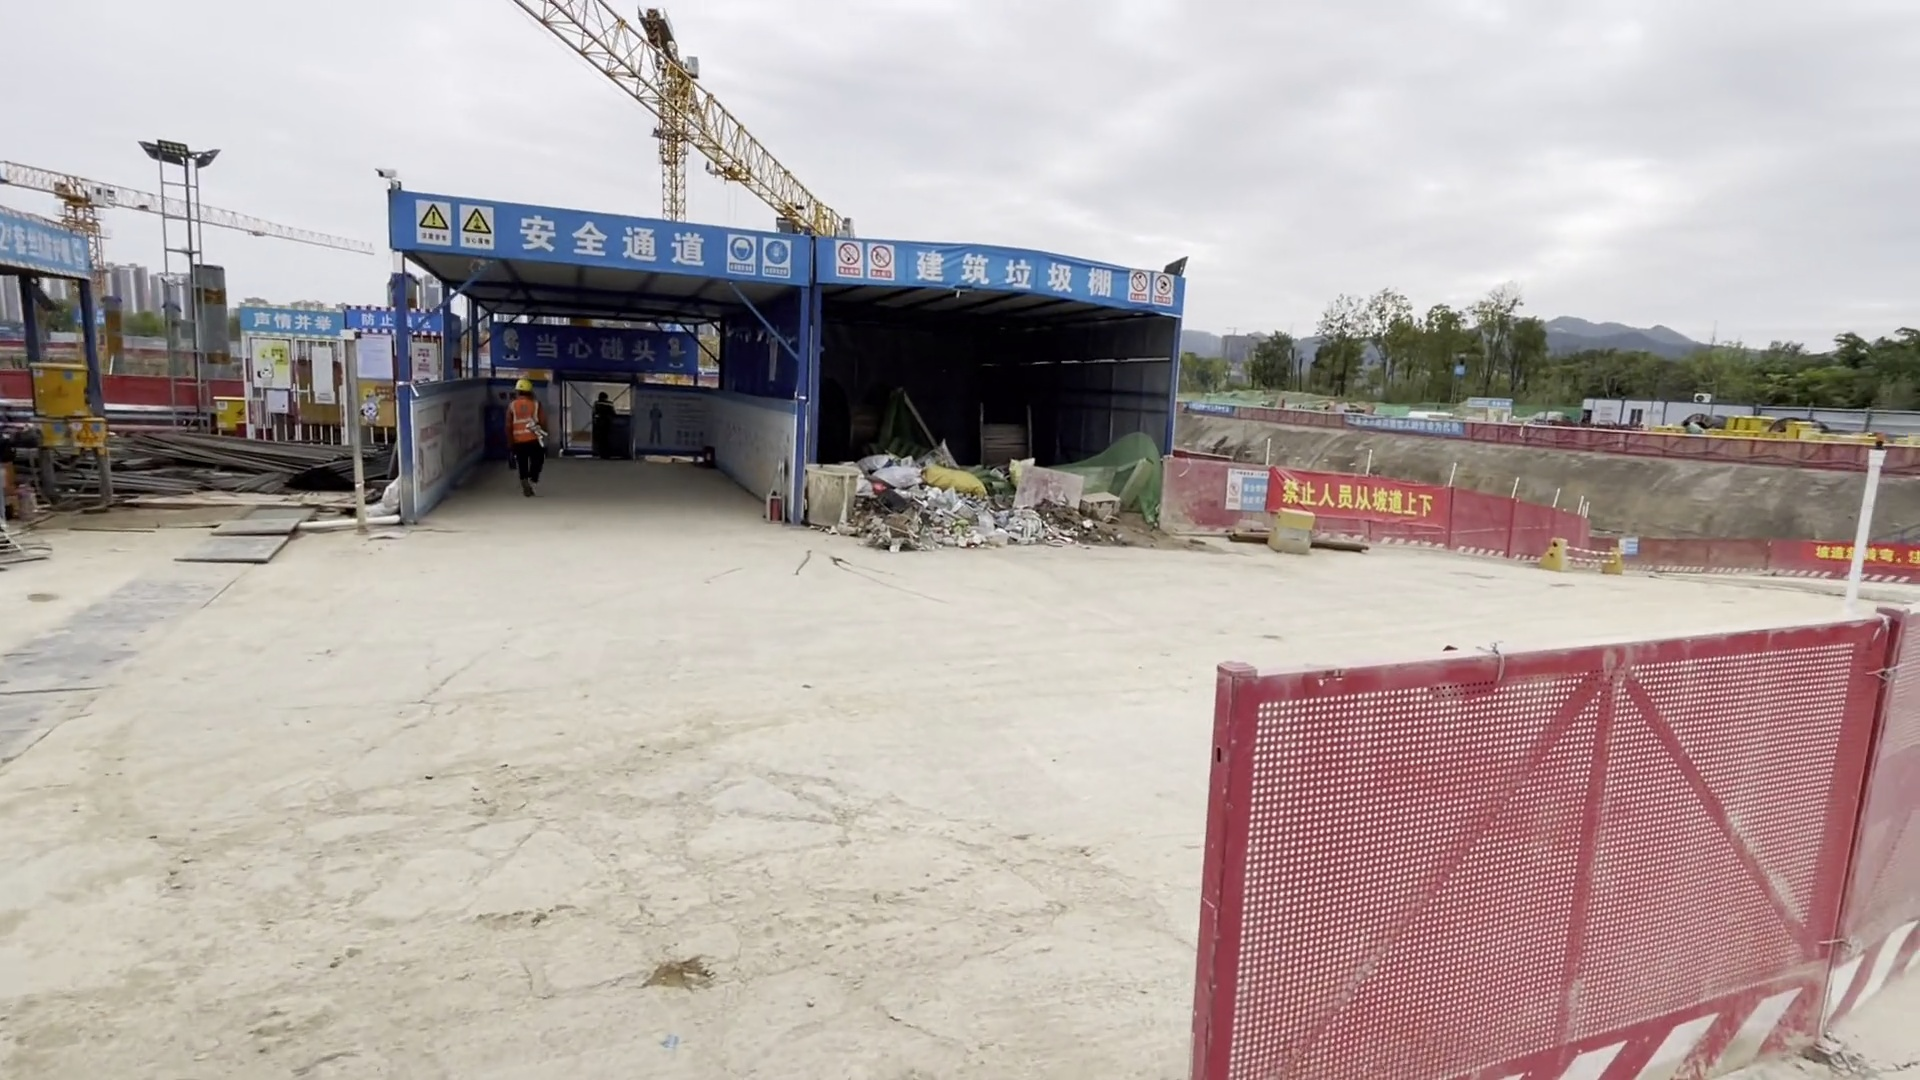helmet: (506, 372, 530, 394)
person: (491, 377, 543, 496)
slogan: (393, 185, 1206, 316), (1260, 455, 1445, 522), (495, 320, 704, 379), (243, 303, 445, 333), (2, 214, 91, 272), (1337, 414, 1465, 442)
vest: (504, 394, 545, 459)
